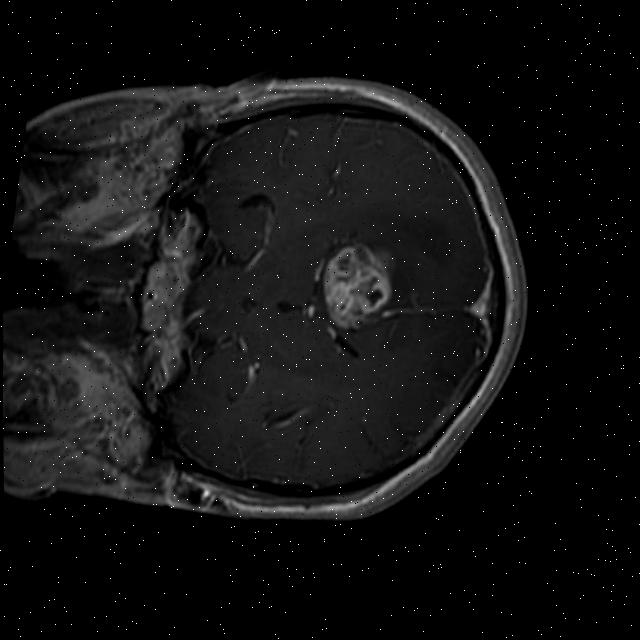Glioma: (315, 234, 401, 339)
Pituitary: (136, 258, 188, 338)
